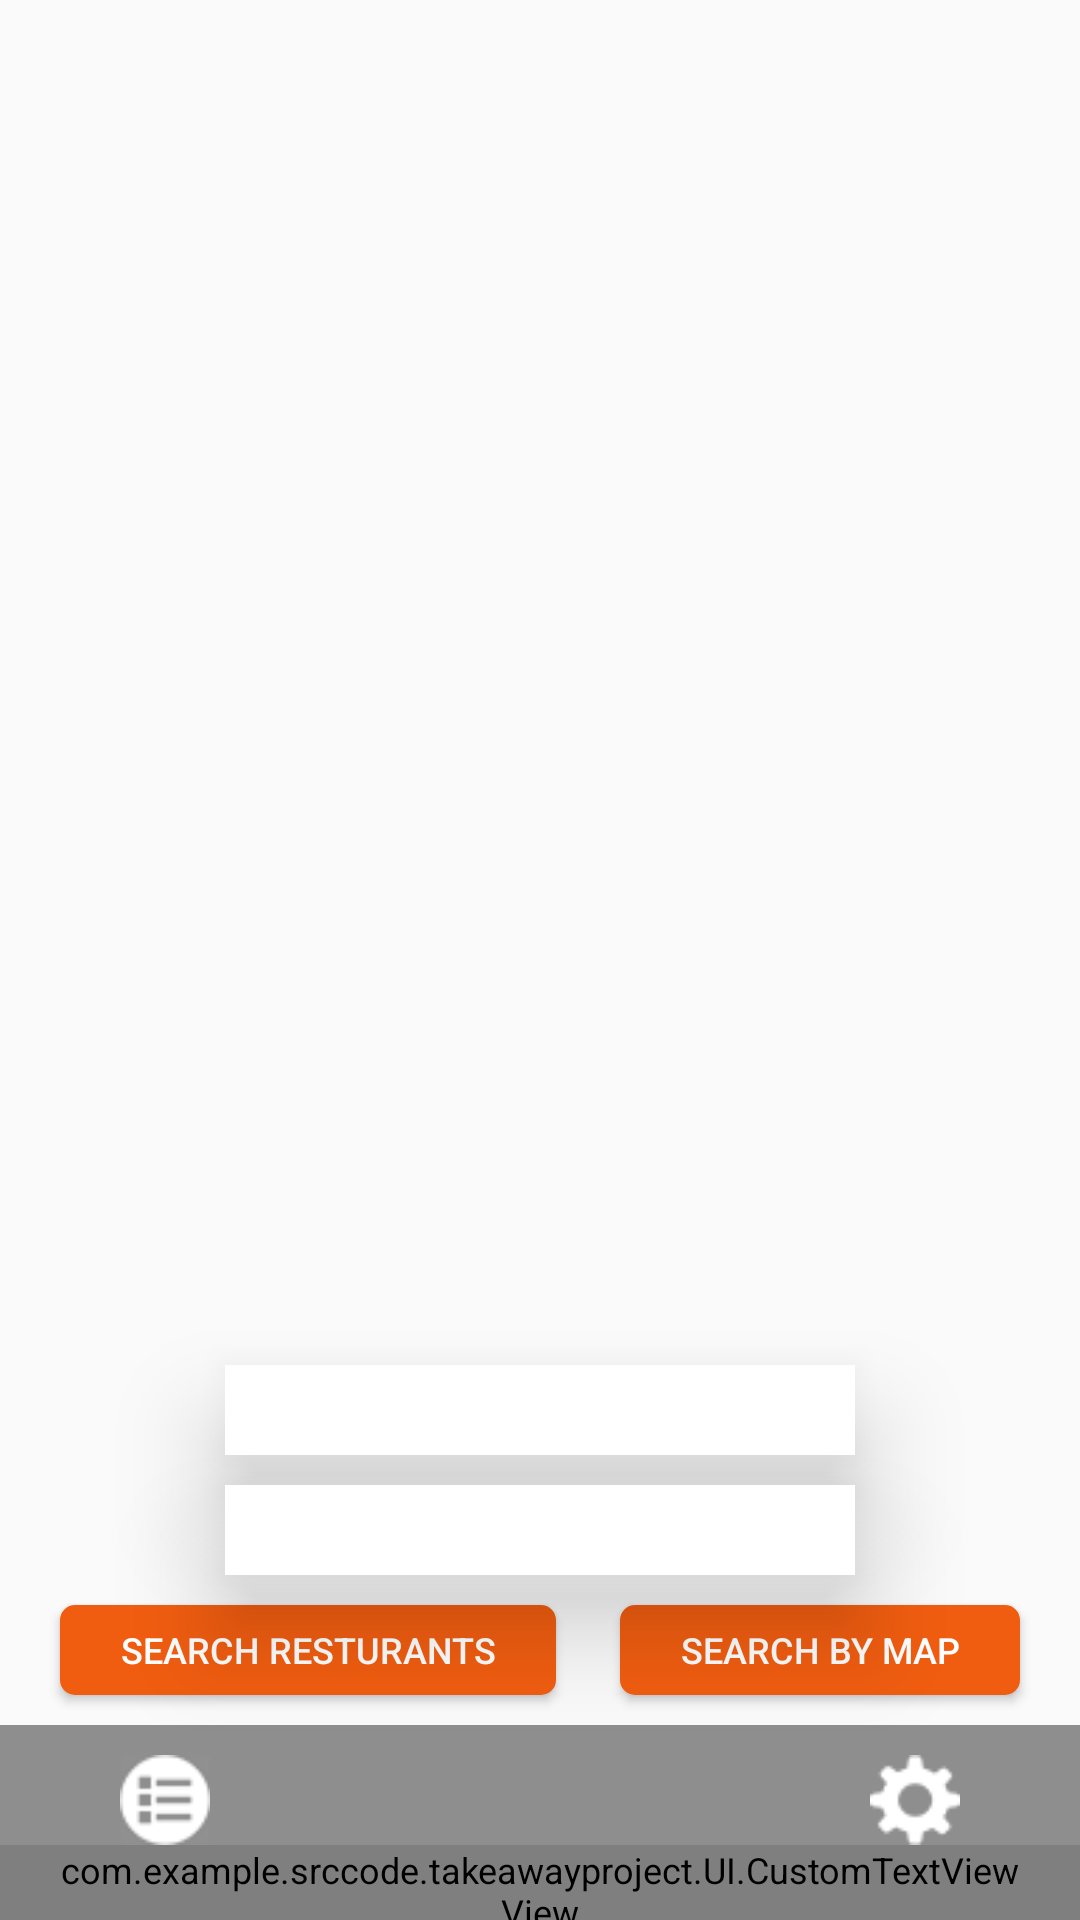

Point at icon controls on the screen. Image size 1080px x 1920px, points as (x,y).
last orders: (165,1800)
setting: (915,1800)
